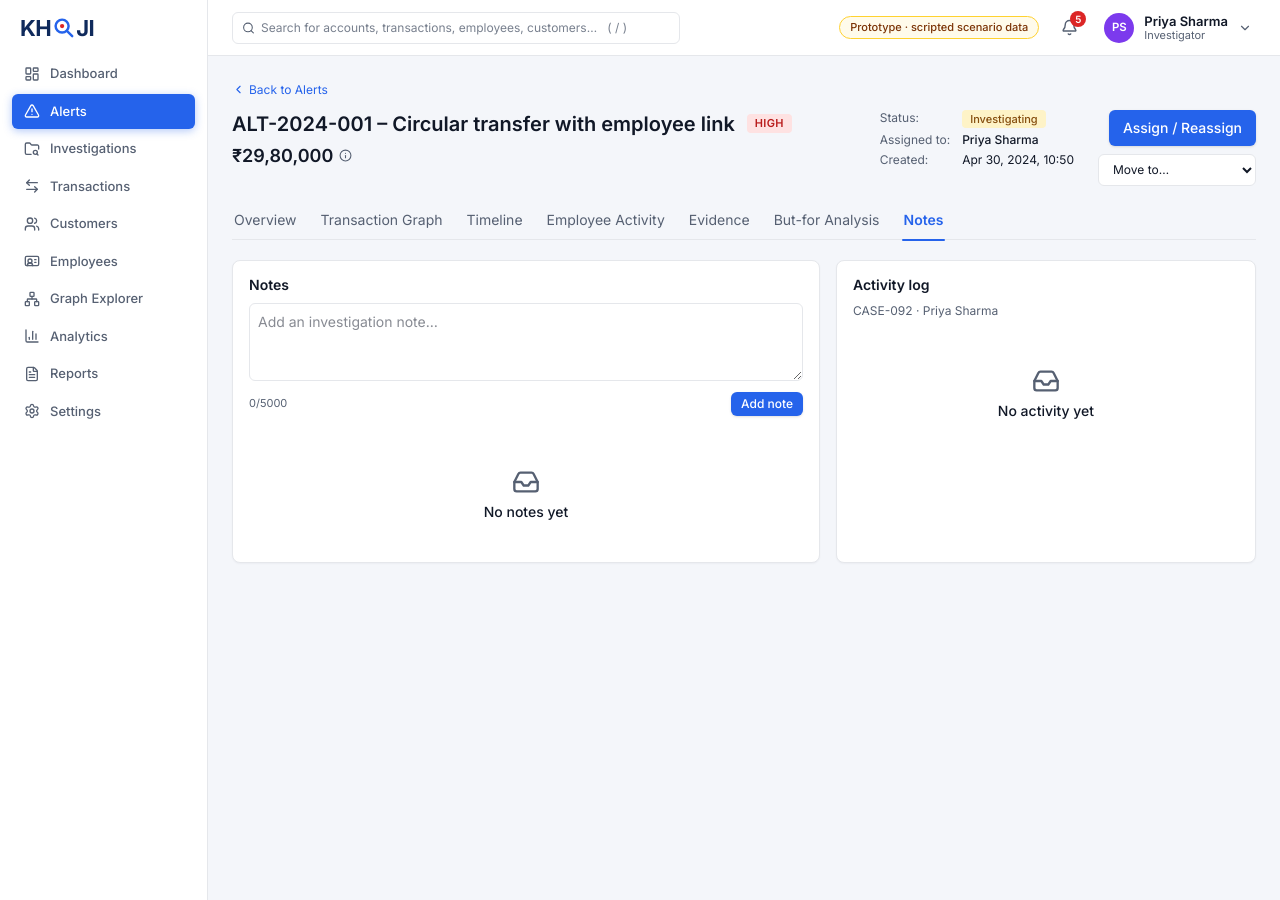
Test: notes › rejects empty notes, trims, and shows markup literally
Click the button "Add note" at (767, 404), box [731,392,803,416]
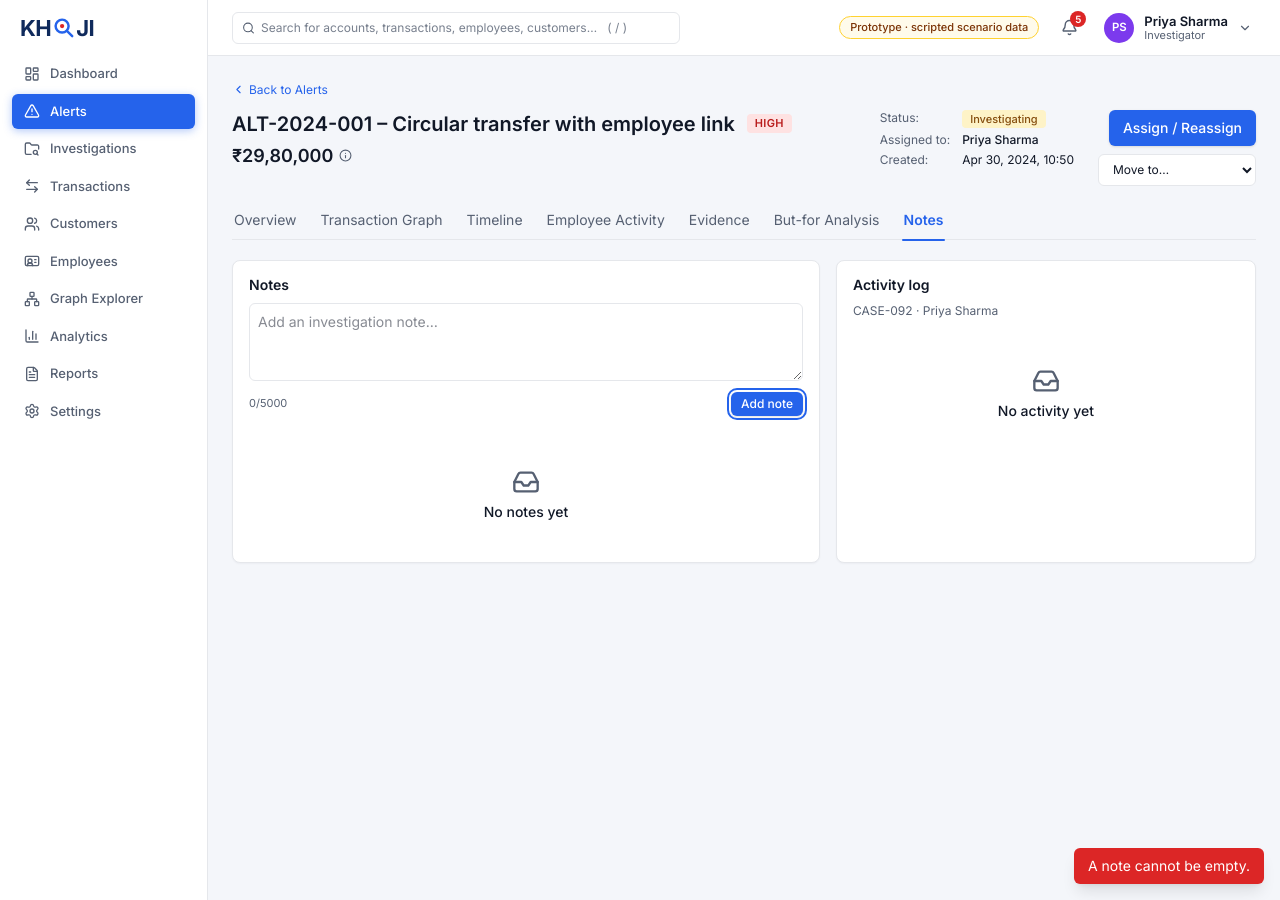
Result: the text "A note cannot be empty." is shown at [1074,848,1264,884]
Type "  <script>alert(1)</script> check  " into the text box named "Add a note" at (526, 342), box [249,302,803,380]
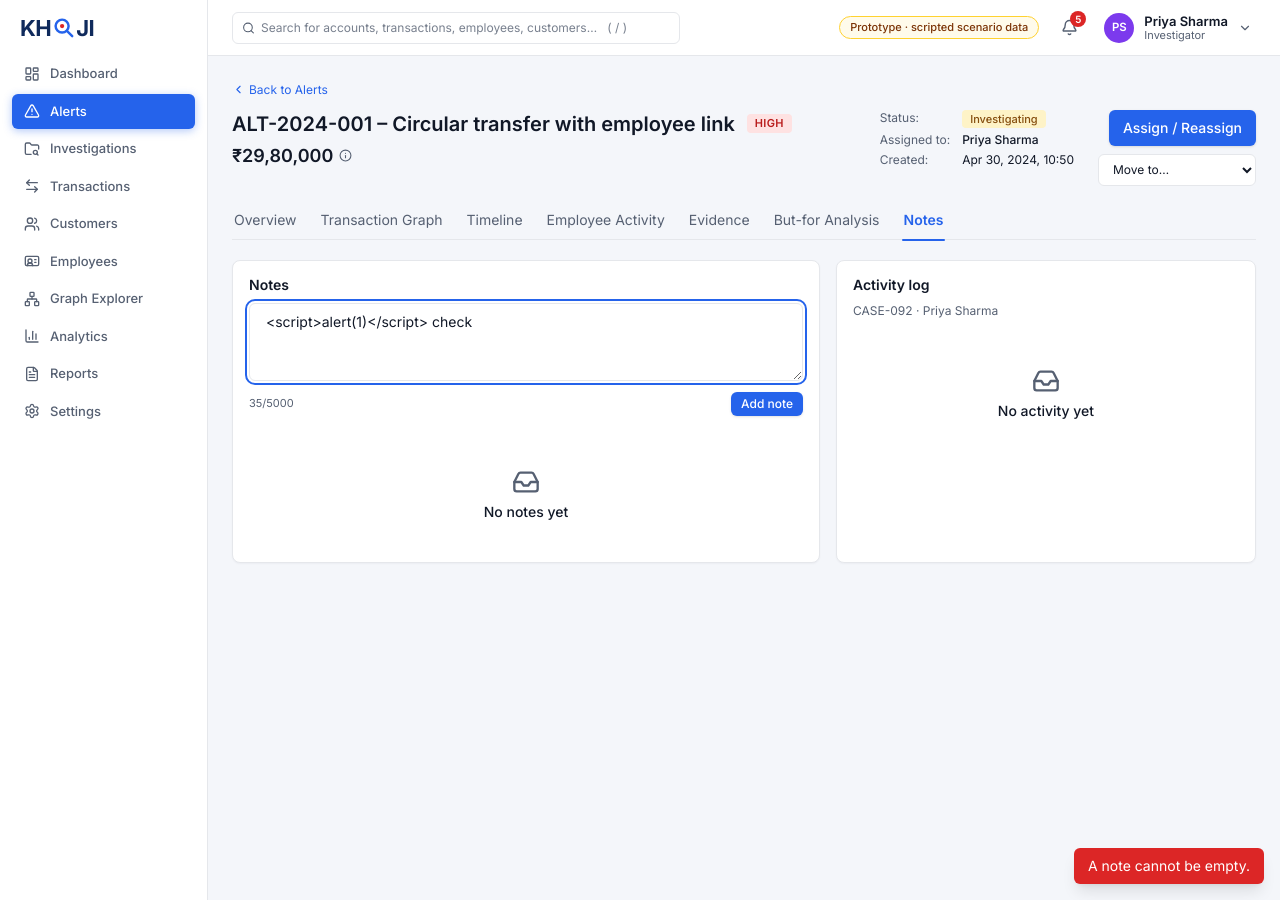
Click the button "Add note" at (767, 404), box [731,392,803,416]
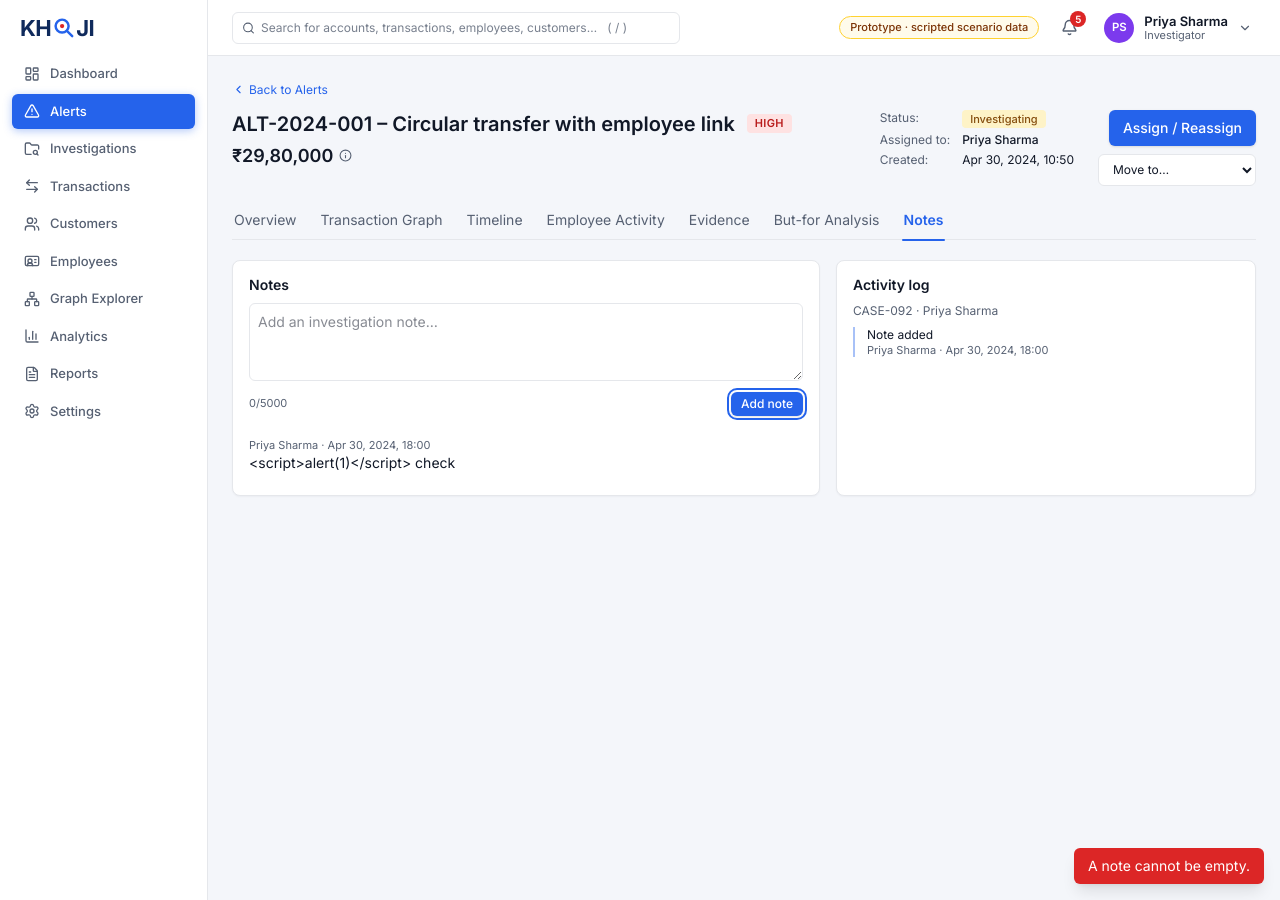
Result: the list named "Notes" shows "<script>alert(1)</script> check" at [249,454,455,471]
